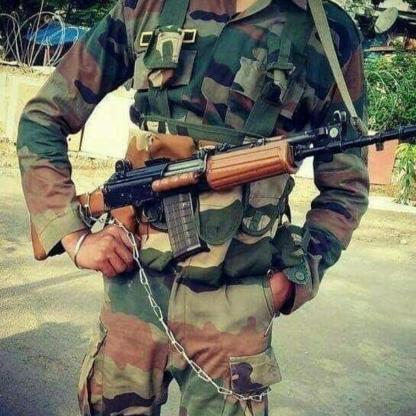rifle: (47, 107, 416, 265)
